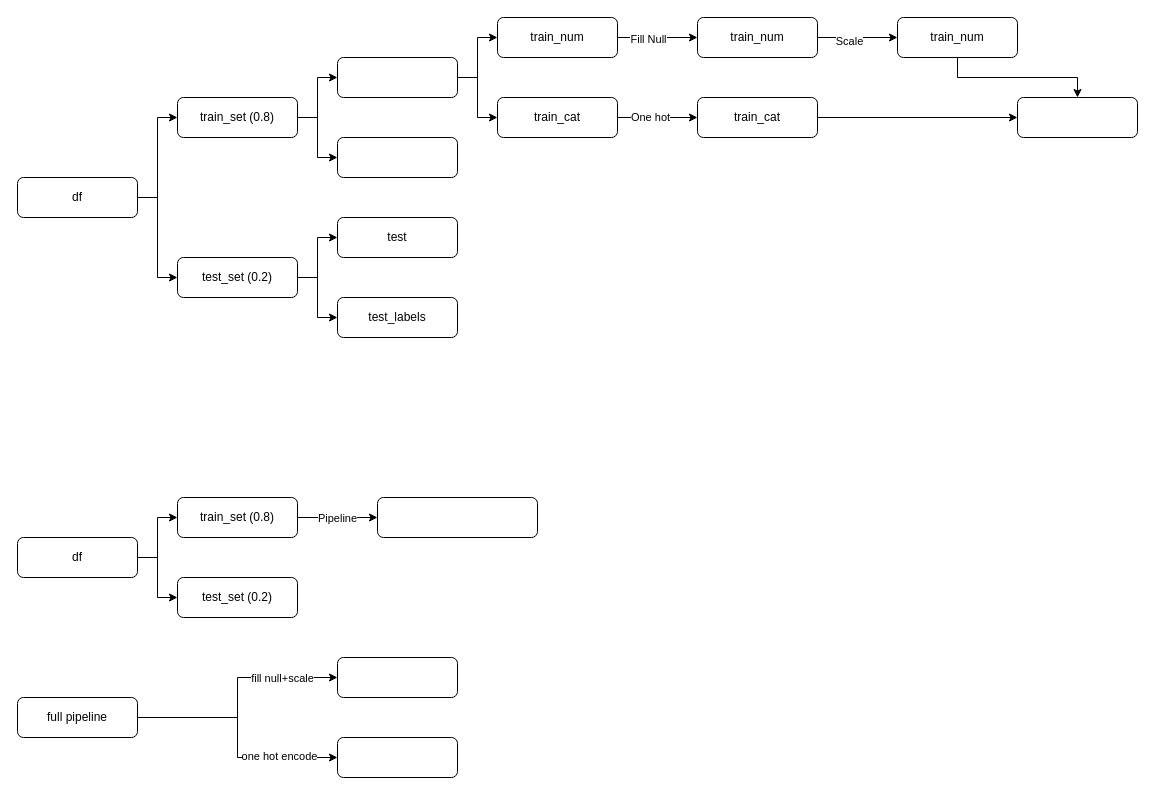
Some shapes in this 1155 by 795 pixel diagram are drawn without their labels. The centre of each missing label's shape, as x and y in pixels:
cat_attribs: the point at 397,757
num_attribs: the point at 397,677
train: the point at 397,77
train_labels: the point at 397,157
train_prepared: the point at 1077,117
train_prepared (numpy): the point at 457,517
